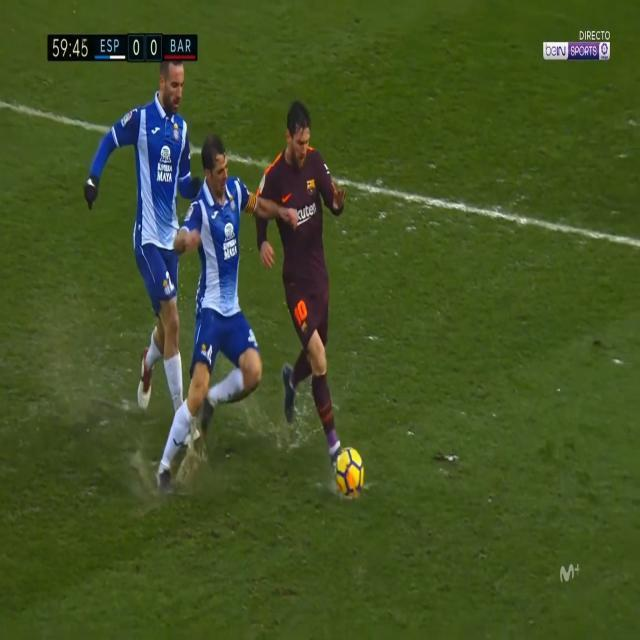ball: (330, 424, 373, 506)
player: (161, 113, 261, 513), (269, 86, 348, 504)
